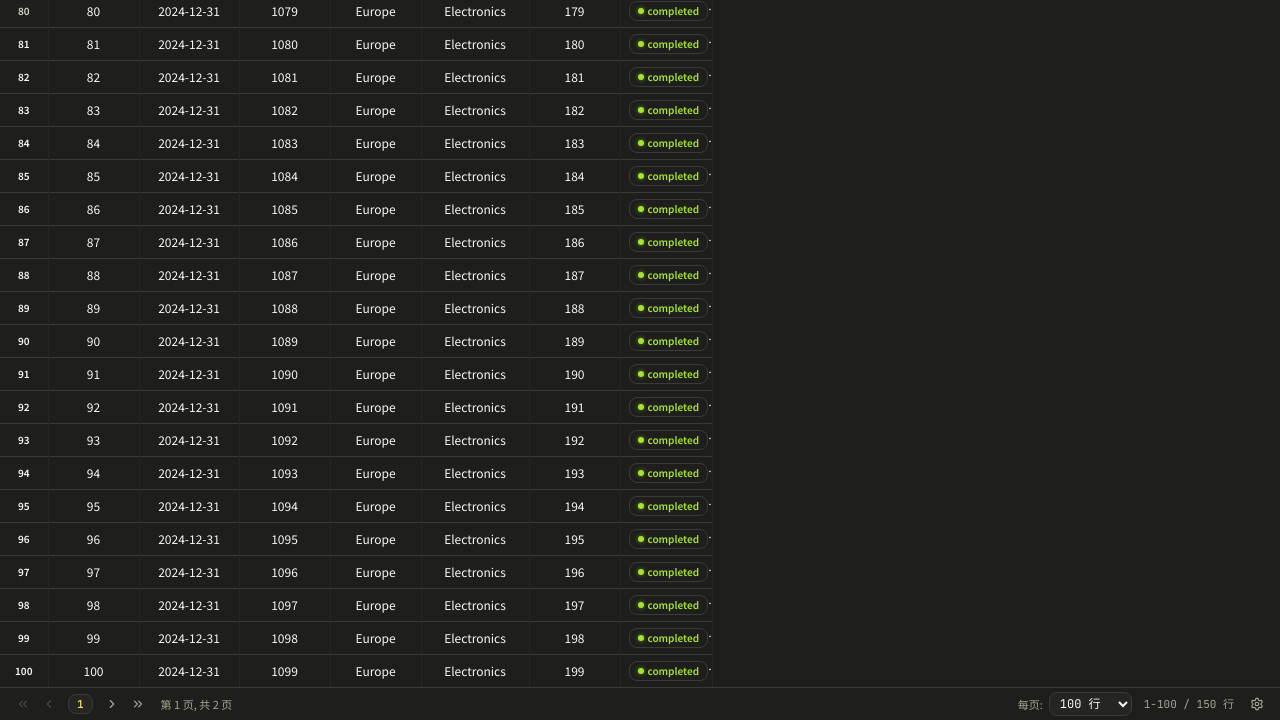
Test case: ResultSection (BRD index8.md & Target Mockup Flow) › supports multi-page pagination and page size switching
(page scrolled)
Expected: the text "第 1 页, 共 2 页" is shown, [161,697,232,711]
Expected: the text "1-100 / 150 行" is shown, [1144,697,1234,711]
Note: Click Next page
Click the button titled "下一页" at (112, 704), box [101,693,123,715]
(page scrolled)
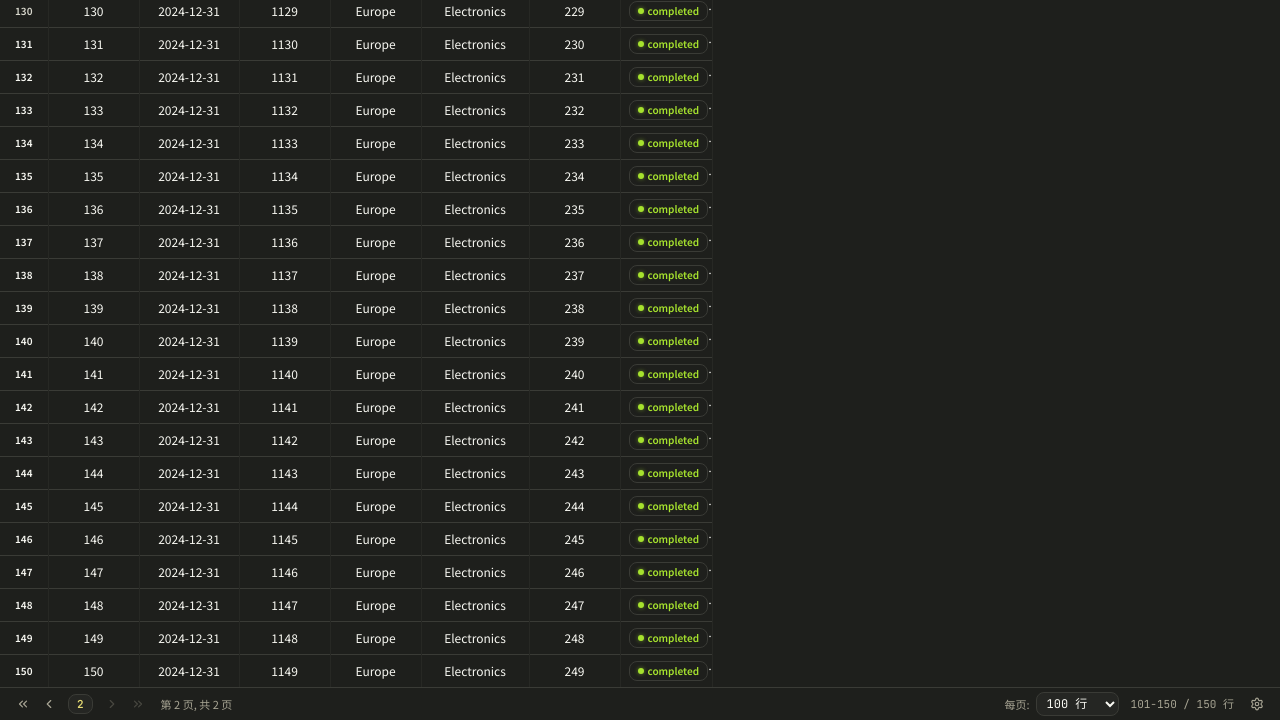
Expected: the text "第 2 页, 共 2 页" is shown, [161,697,232,711]
Expected: the text "101-150 / 150 行" is shown, [1131,697,1234,711]
Note: Switch pageSize to 50
Select "50 行" in the dropdown showing "100 行" at (1077, 704), box [1036,692,1119,716]
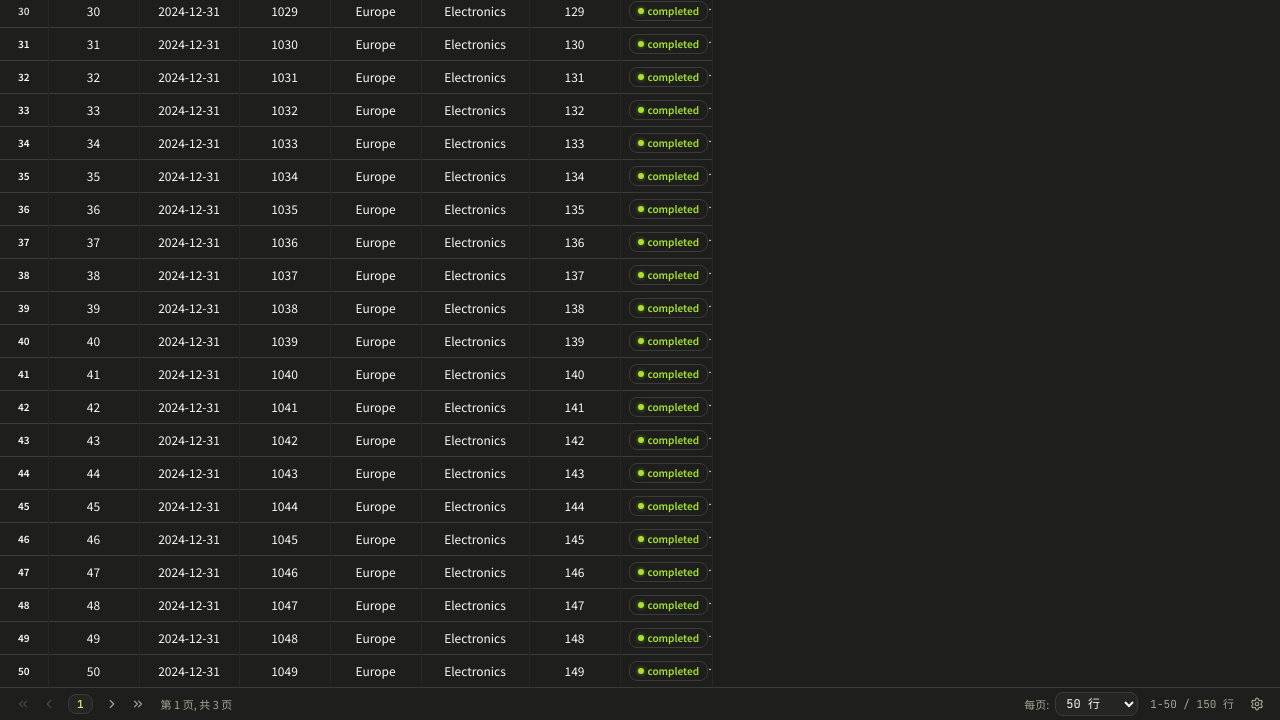
Expected: the text "第 1 页, 共 3 页" is shown, [161,697,232,711]
Expected: the text "1-50 / 150 行" is shown, [1150,697,1234,711]
